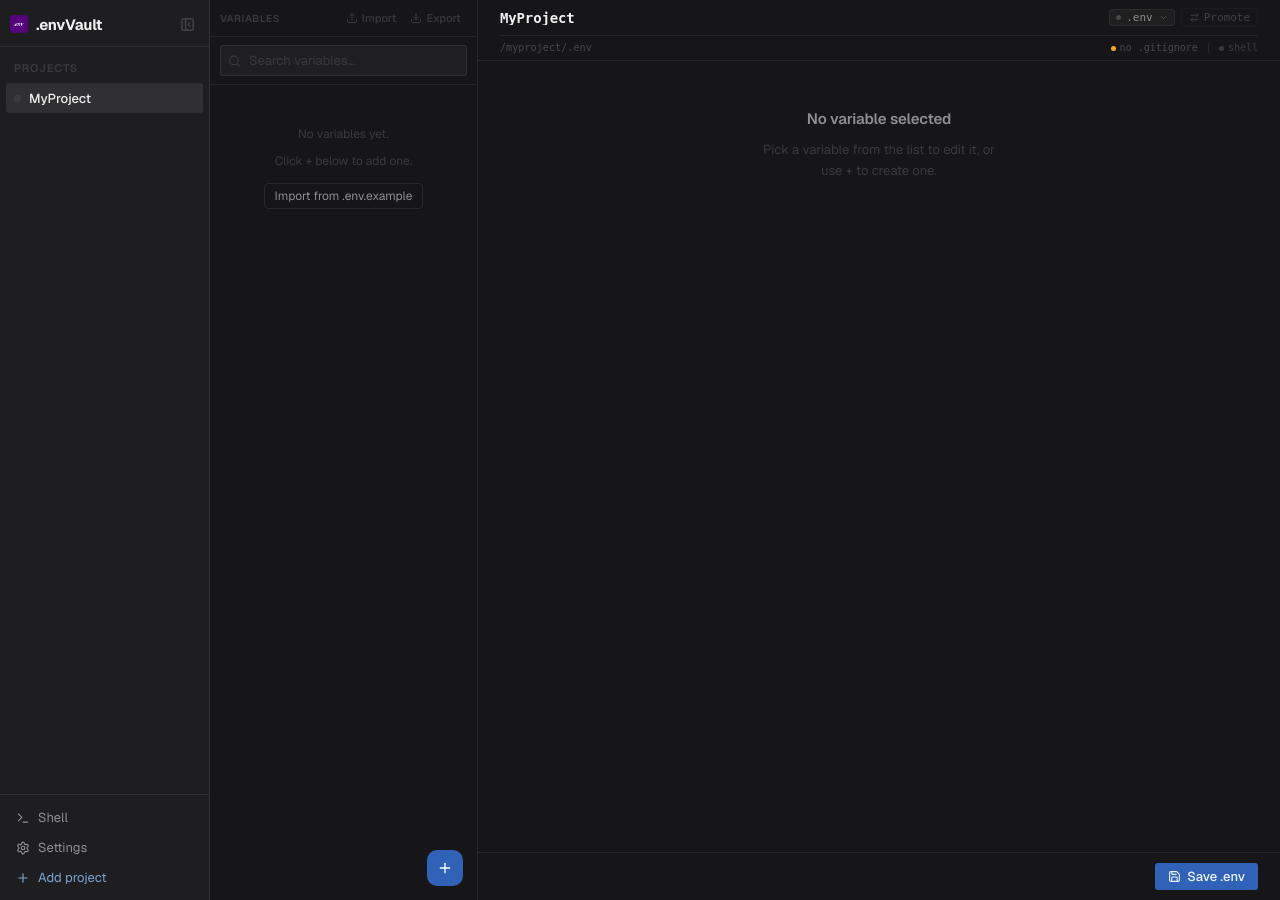
it: App › saveToFile: shows error status when saveProjectEnv fails
The image size is (1280, 900).
Expected: the text "MyProject" is shown, [29, 90, 91, 106]
Click the button with aria-label "Save .env file to disk".
click(1207, 876)  # box [1155, 863, 1258, 890]
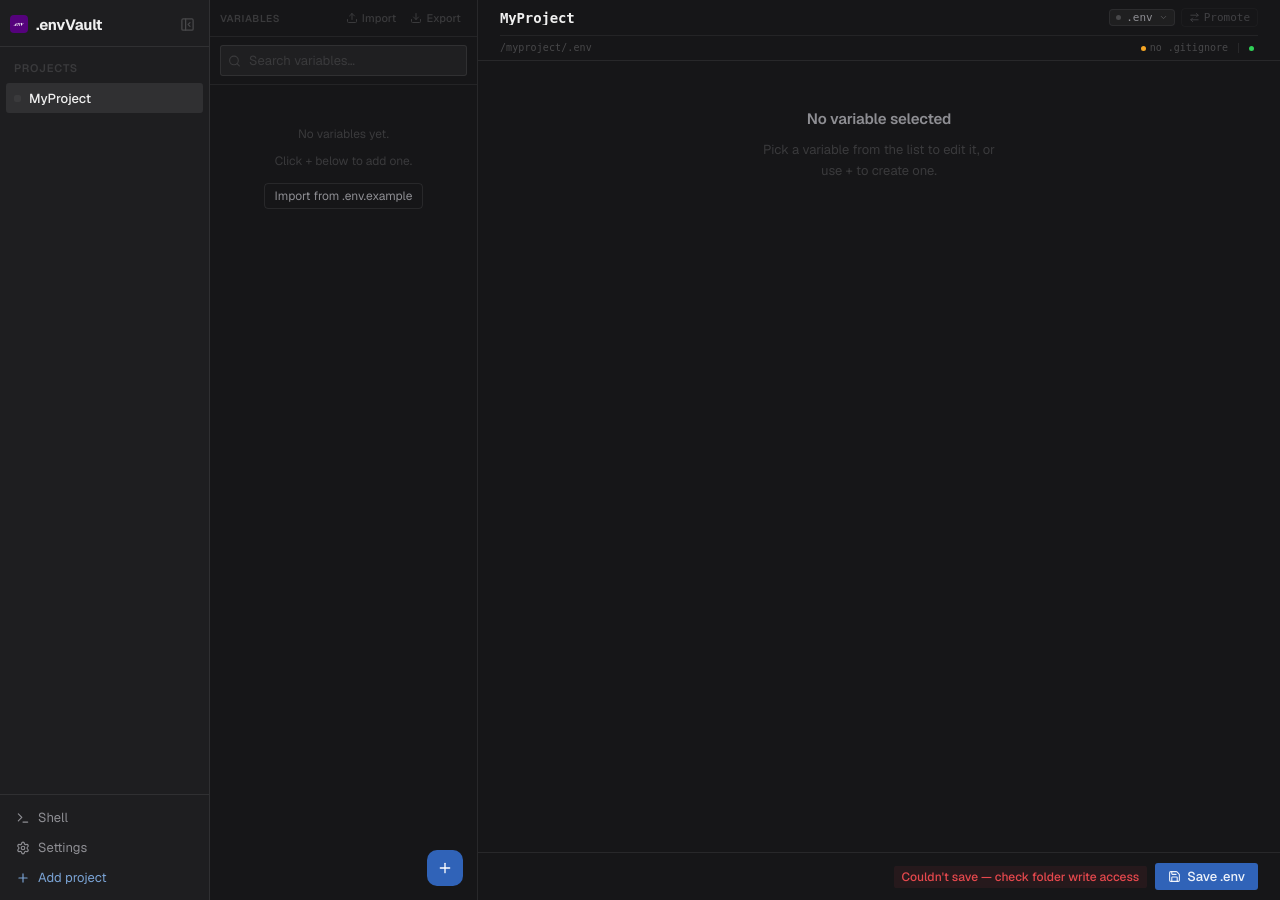
Expected: the text "Couldn't save — check folder write access" is shown, [894, 866, 1147, 888]
